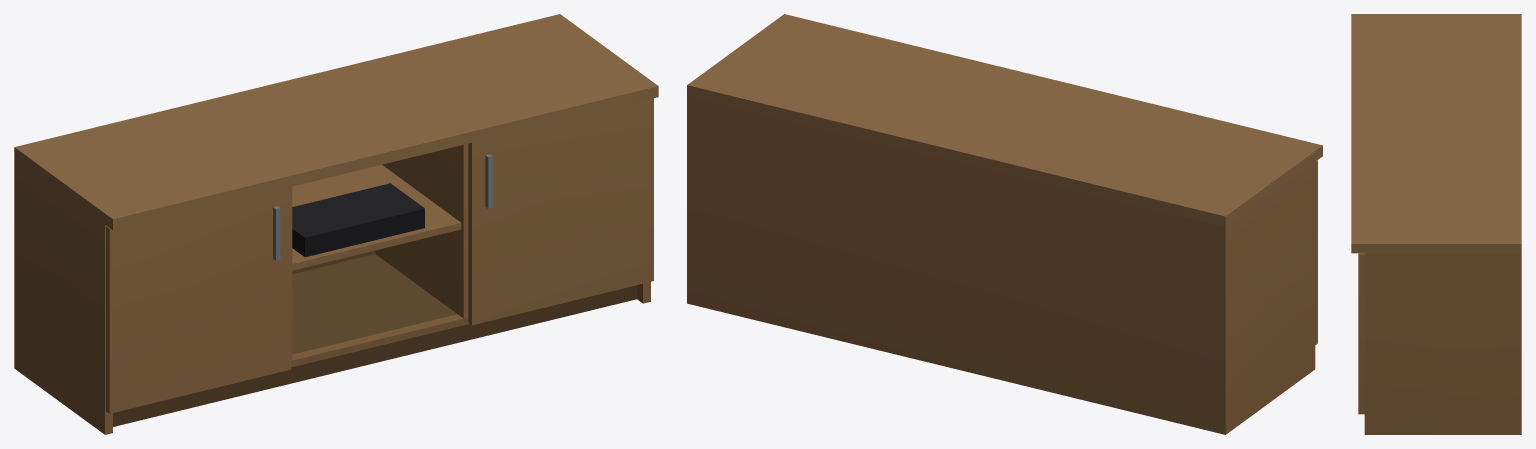
The model's file is cabinet.media.oak.glb.
3 views of the same model, side by side, from view 1: azimuth 30°, elevation 25°; view 2: azimuth 150°, elevation 25°; view 3: azimuth 270°, elevation 25° (orthographic). The views are drawn at different scales.
Parts seen in each view (by area): view 1: cabinet_media_oak; view 2: cabinet_media_oak; view 3: cabinet_media_oak.
Part boxes in pixels (x1,y1,x2,y2): cabinet_media_oak: [14, 14, 658, 434]; cabinet_media_oak: [687, 14, 1322, 434]; cabinet_media_oak: [1351, 14, 1521, 434].
Size of what is drawn, in the model's own units: 1.55 by 0.6 by 0.484.
